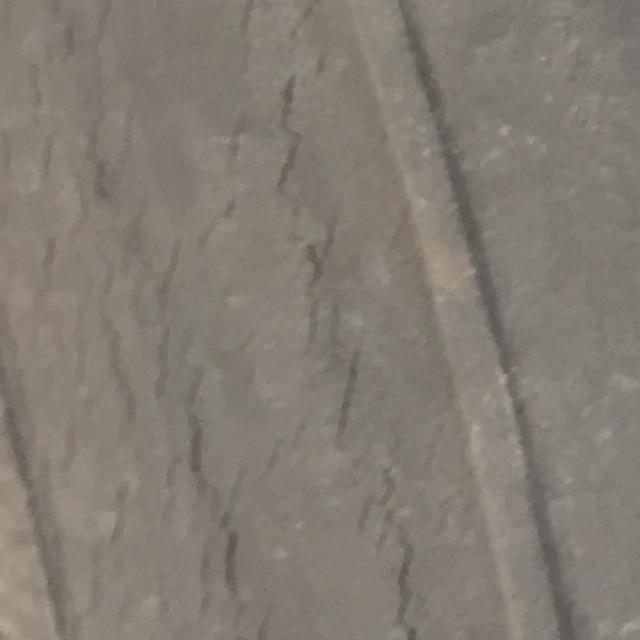Cracks: (0, 0, 465, 640)
Non-defective: (476, 0, 640, 640)
